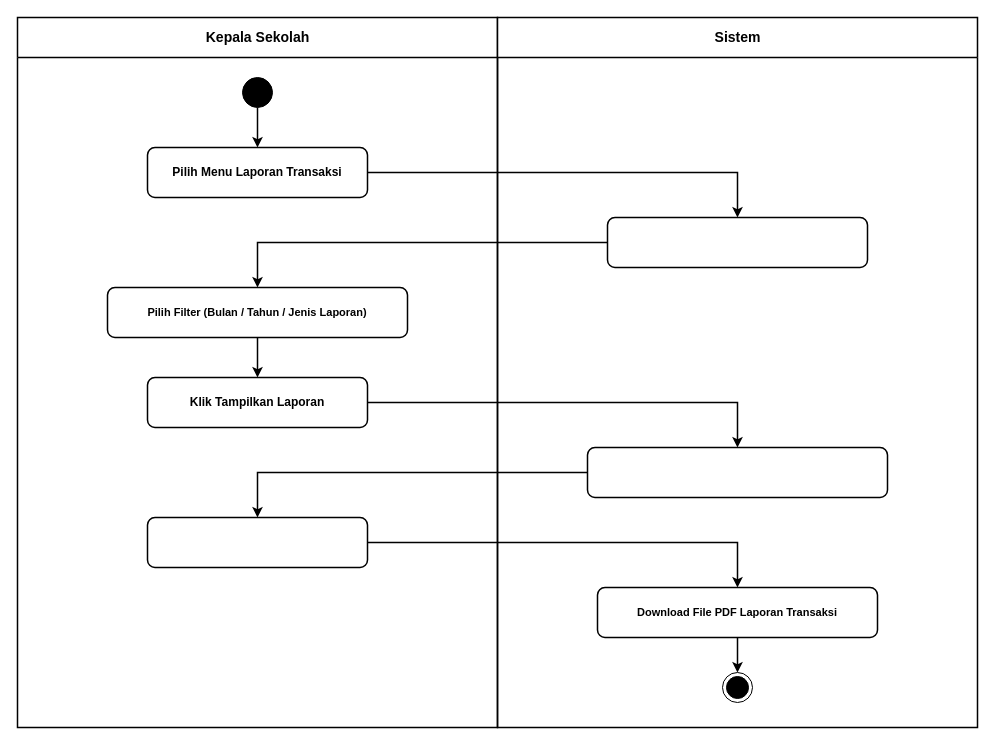
Image size: 996x746. Some labels were removed from this diagram. Here are the shapes that lost their labels. From the top down, the centre of each, then its label:
At [737,242]: "Tampilkan Menu Laporan".
At [737,472]: "Tampilkan Ringkasan".
At [257,542]: "Klik Cetak / Export PDF".
